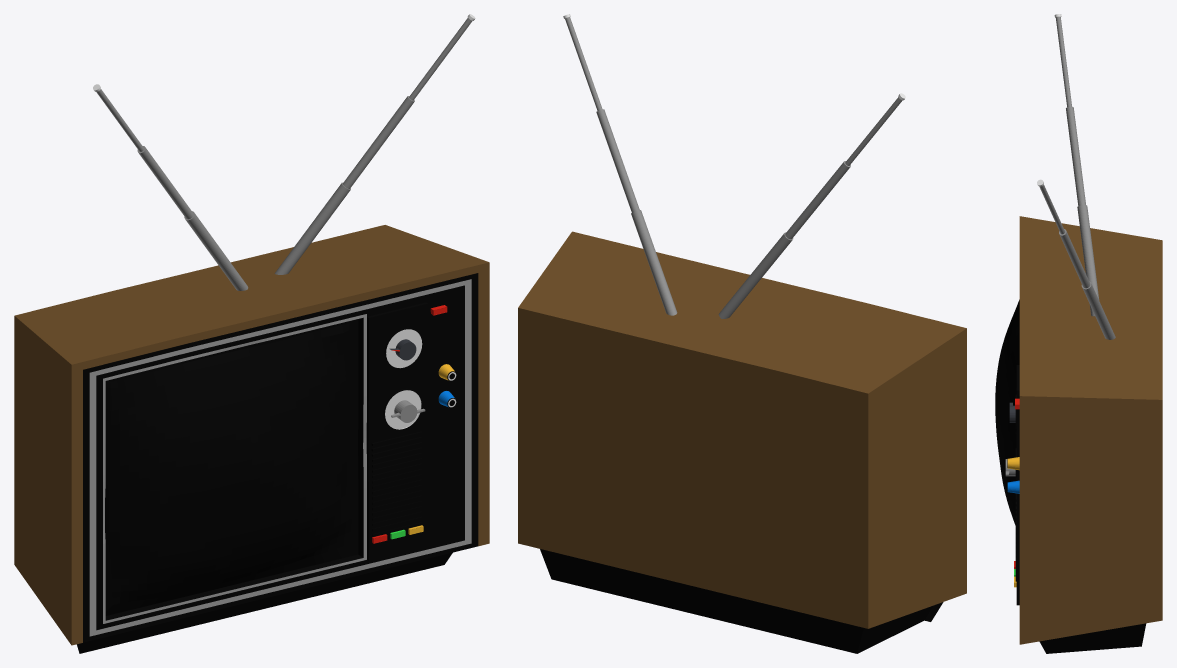
The picture shows the model from 3 angles, left to right: view 1: azimuth 30°, elevation 25°; view 2: azimuth 150°, elevation 25°; view 3: azimuth 270°, elevation 25°; orthographic projection. The views are drawn at different scales.
Parts seen in each view (by area): view 1: Plane.001; view 2: Plane.001; view 3: Plane.001.
Boxes of the visible parts, x1,y1,x2,y2 form: Plane.001: (14, 14, 489, 653); Plane.001: (518, 14, 966, 653); Plane.001: (995, 14, 1162, 653).
Size of the model in its own units: 157 by 200 by 61.57.
